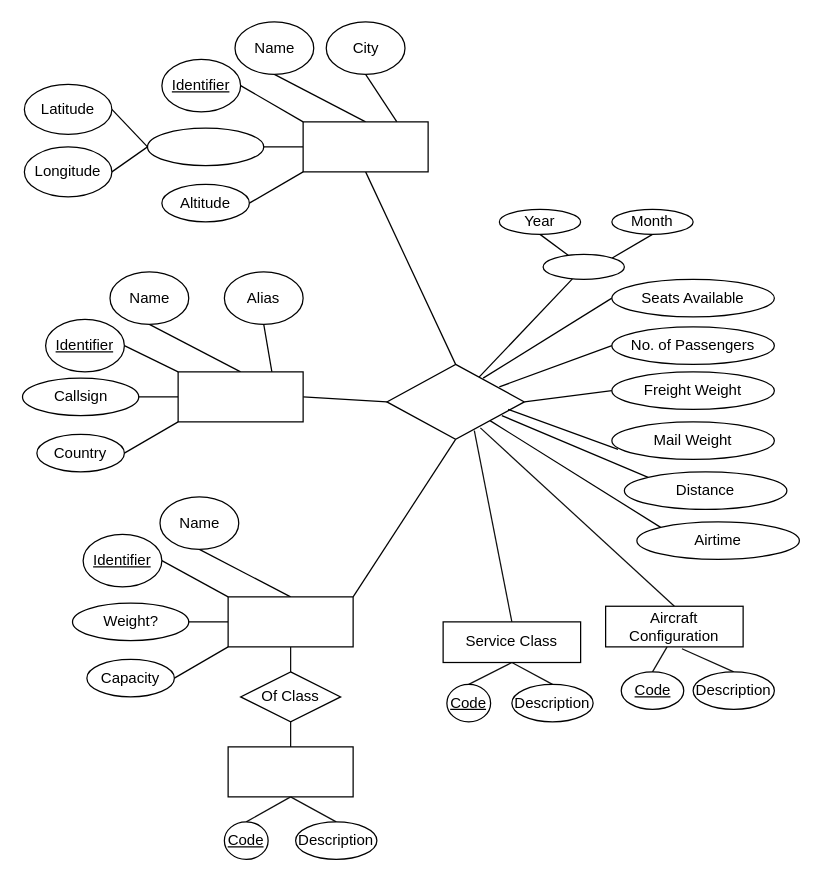
This 821x881 diagram has some shape labels left out. The box of each missing label's shape, as (x1, y1, x2, y2) in pixels:
Aircraft: (227, 596, 353, 647)
Aircraft_Group: (227, 746, 353, 797)
Airline: (177, 371, 303, 422)
Airport: (302, 121, 428, 172)
Coordinates: (146, 127, 264, 166)
Date: (542, 253, 624, 279)
Flight: (386, 363, 524, 439)
